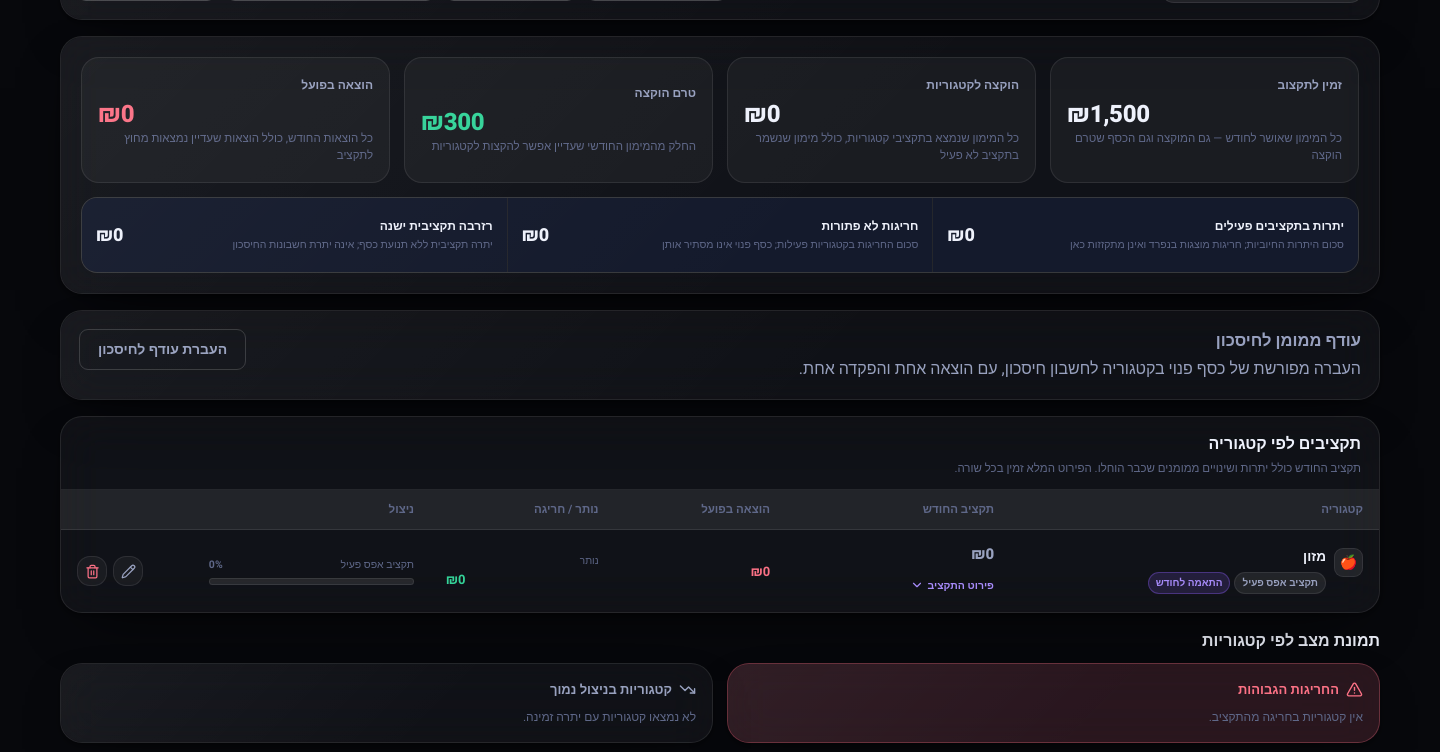
Test: canonical funded monthly read › preserves an explicit zero monthly override as visible detail rather than treating it as missing
Expected: the text "התאמה לחודש" is shown, [1148,572,1230,594]
Click the button with aria-label "הצגת פירוט התקציב עבור מזון": {"x": 952, "y": 585} [910,571,994,599]
(page scrolled)
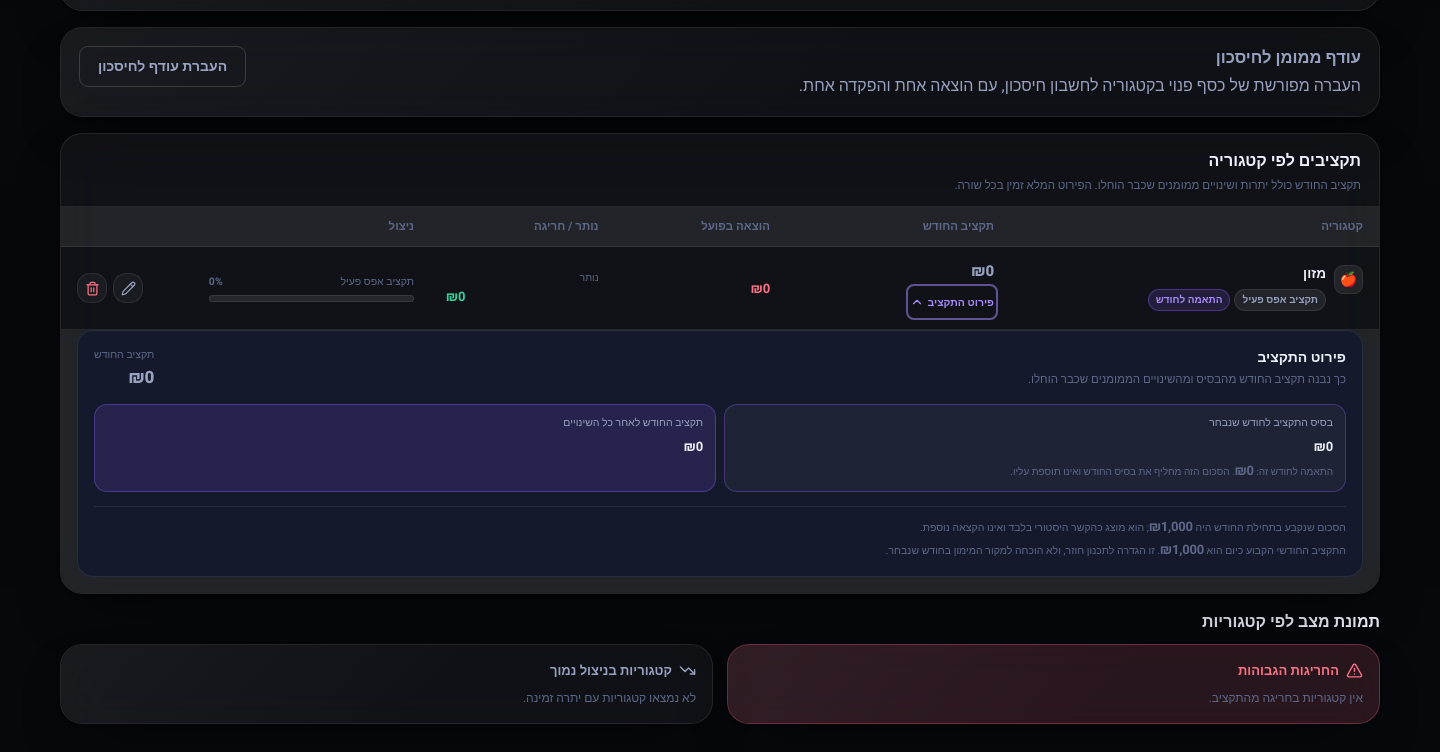
Expected: the text "התאמה לחודש זה:" shows "₪0", [1010,461,1333,480]
